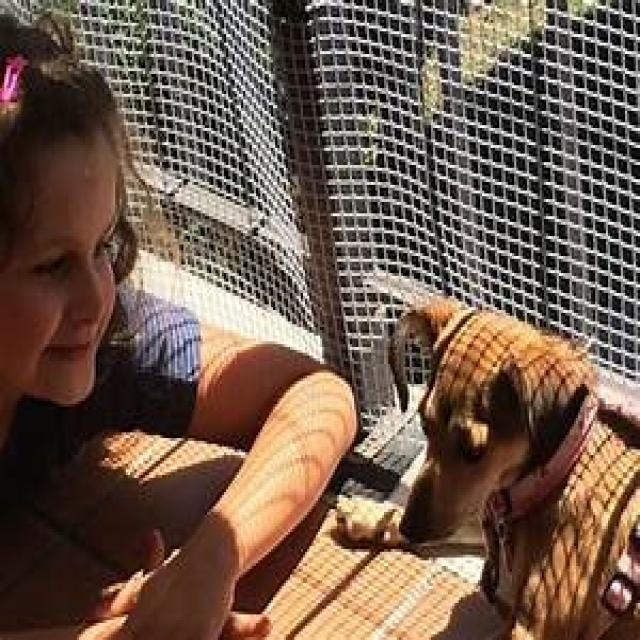dog: (390, 299, 640, 640)
